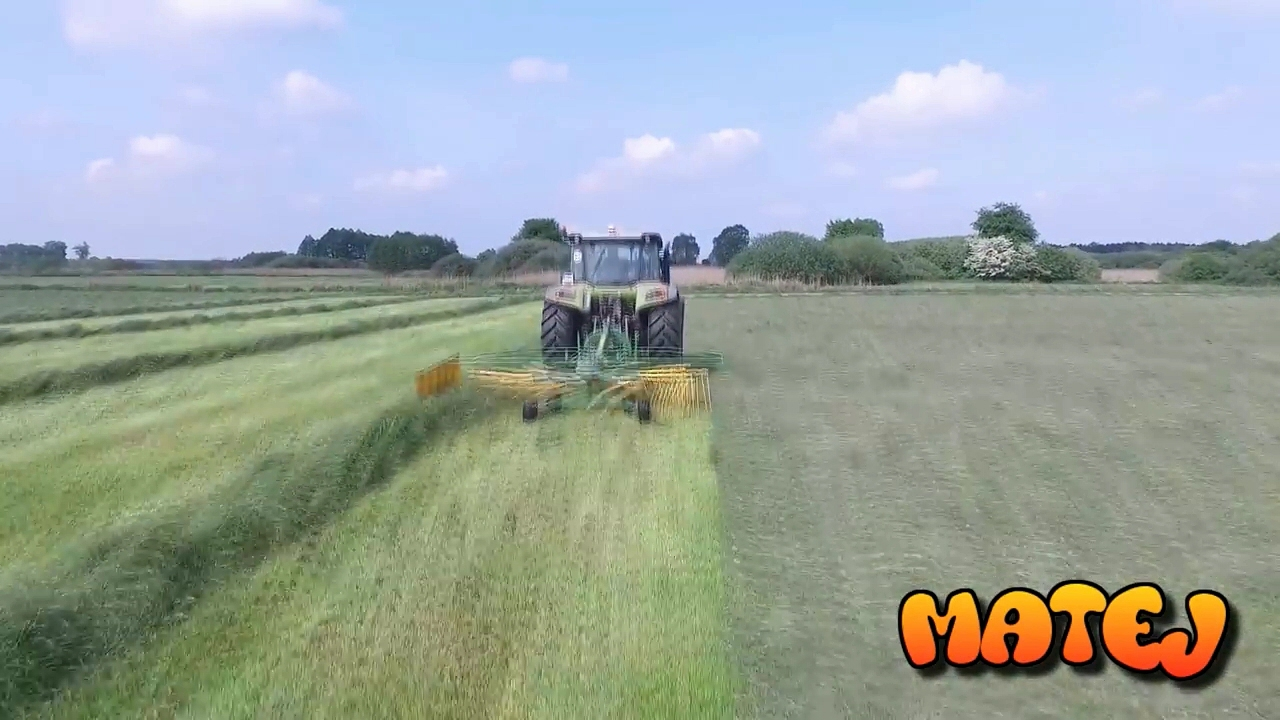traktor: (536, 222, 683, 371)
